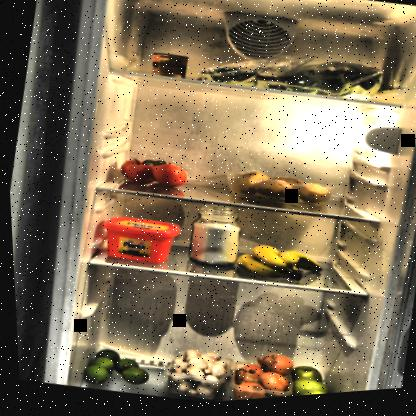apple: (278, 363, 342, 400)
banana: (231, 240, 323, 294)
butter: (92, 211, 181, 274)
corn: (148, 52, 189, 84)
green_beans: (188, 49, 286, 101)
lime: (76, 344, 149, 396)
mushrooms: (159, 345, 223, 407)
onion: (219, 348, 297, 403)
potato: (210, 161, 339, 222)
spinach: (264, 52, 387, 117)
tomato: (115, 153, 190, 196)
